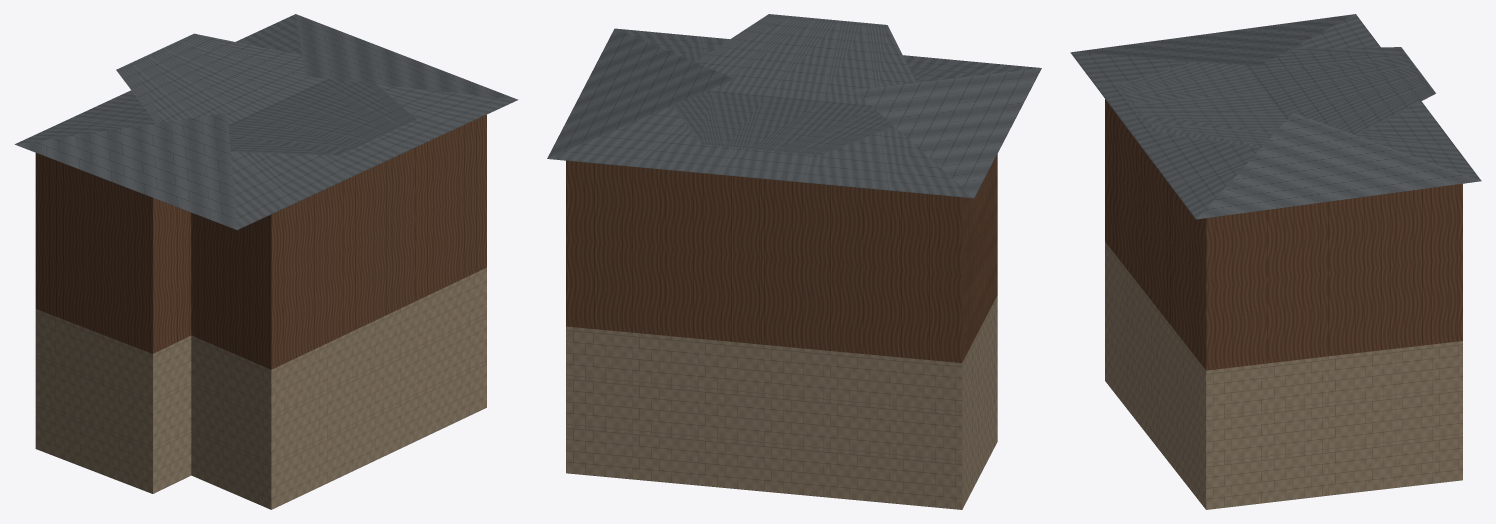
File: bld_c14_11_515.gltf
The picture shows the model from 3 angles, left to right: view 1: azimuth 30°, elevation 25°; view 2: azimuth 150°, elevation 25°; view 3: azimuth 270°, elevation 25°; orthographic projection. The views are drawn at different scales.
Parts seen in each view (by area): view 1: bld_c14_11_515; view 2: bld_c14_11_515; view 3: bld_c14_11_515.
Boxes of the visible parts, x1,y1,x2,y2 form: bld_c14_11_515: (15,14,518,509); bld_c14_11_515: (547,14,1041,509); bld_c14_11_515: (1070,14,1481,509).
Size of the model in its own units: 16.14 by 12.1 by 13.65.
3 materials, 3 textured.
